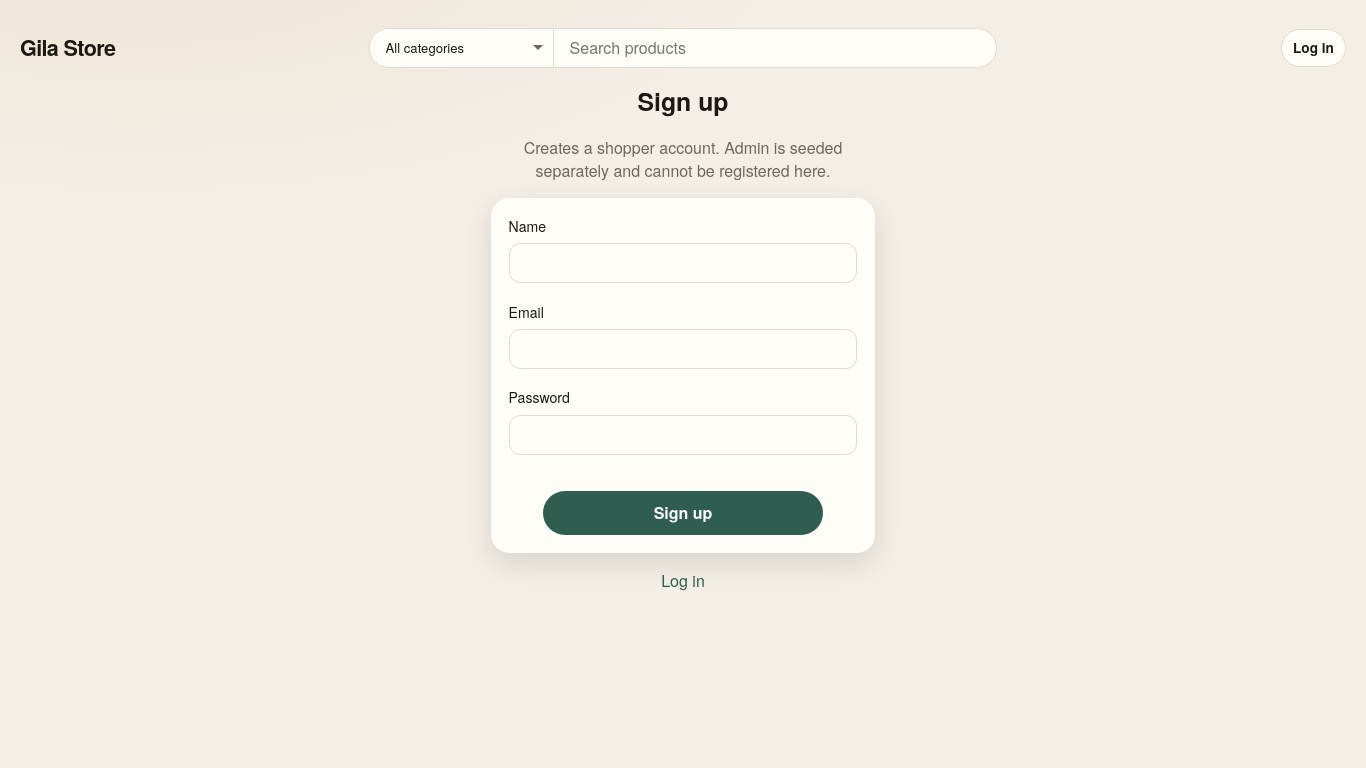
it: SignupPage › shows a conflict when the email is taken
The width and height of the screenshot is (1366, 768).
Expected: the button "Sign up" is enabled, x1=544 y1=491 x2=822 y2=535
Type "Ada" into the field labelled "Name".
click(683, 263); type("Ada")  # box x1=509 y1=243 x2=857 y2=283
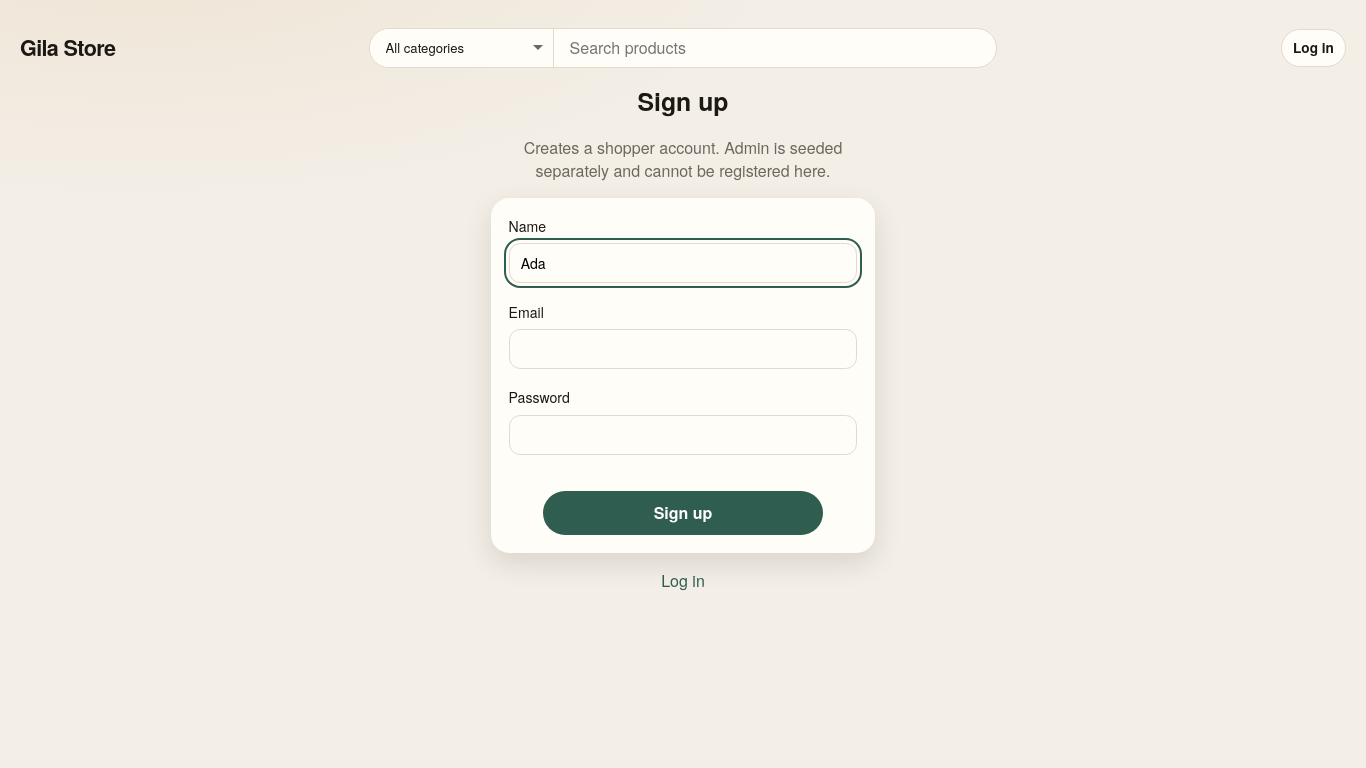
Type "ada@shop.local" into the field labelled "Email".
click(683, 349); type("ada@shop.local")  # box x1=509 y1=329 x2=857 y2=369
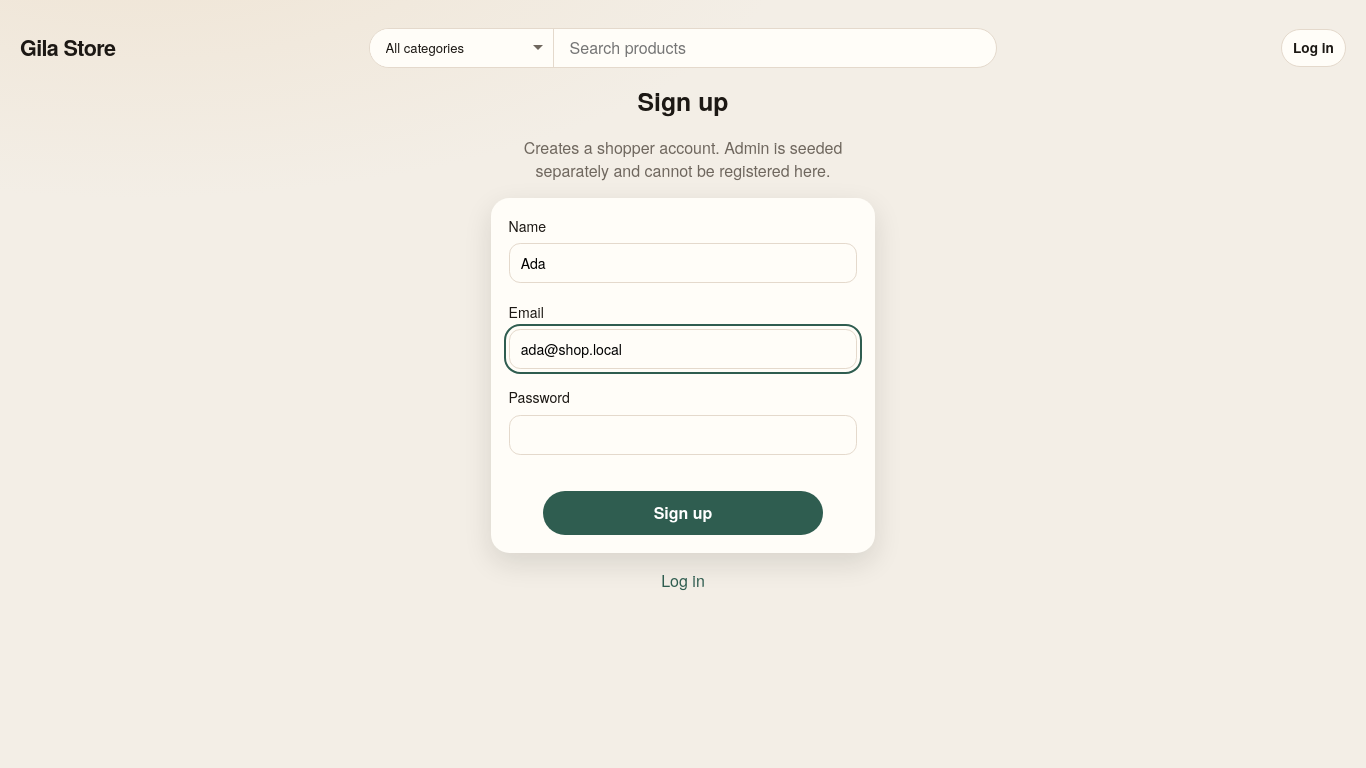
Type "password1" into the password field labelled "Password".
click(683, 435); type("password1")  # box x1=509 y1=415 x2=857 y2=455
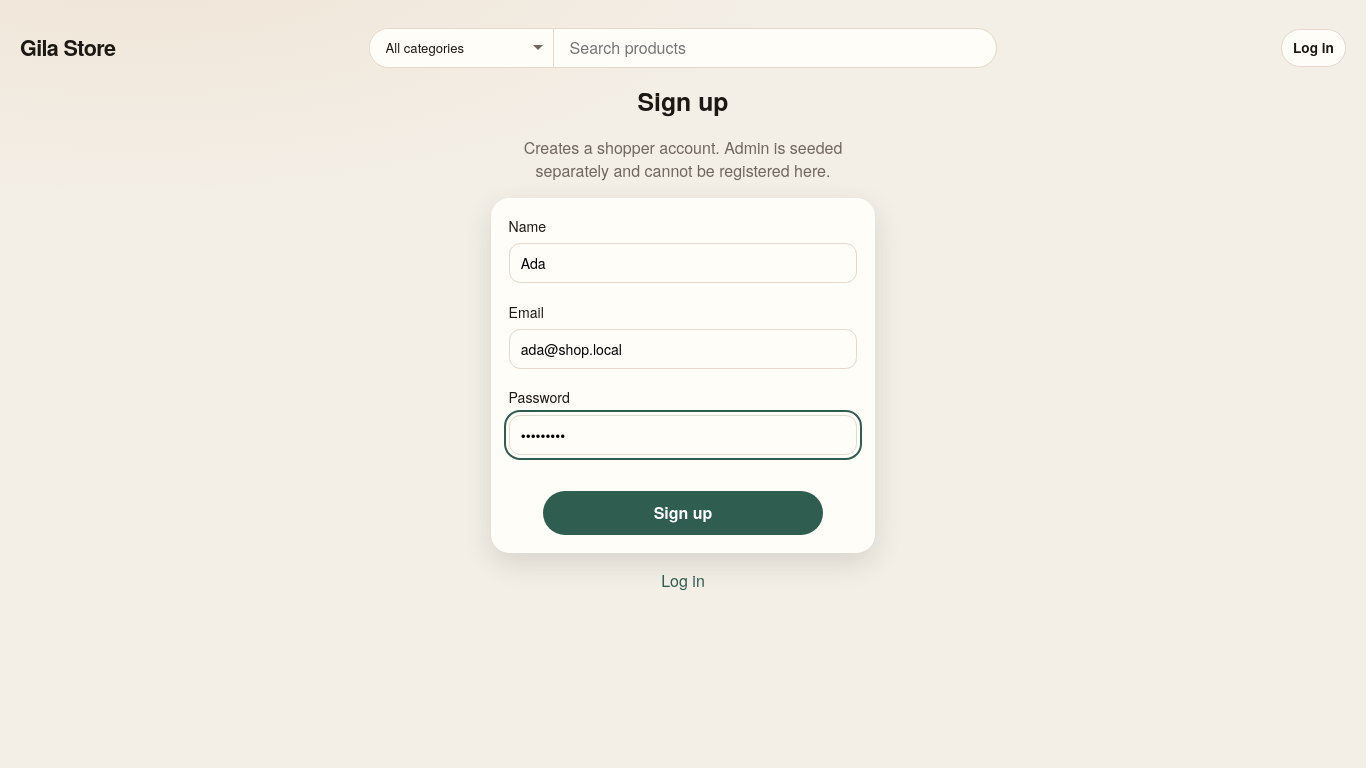
Click the button "Sign up".
click(683, 513)  # box x1=544 y1=491 x2=822 y2=535
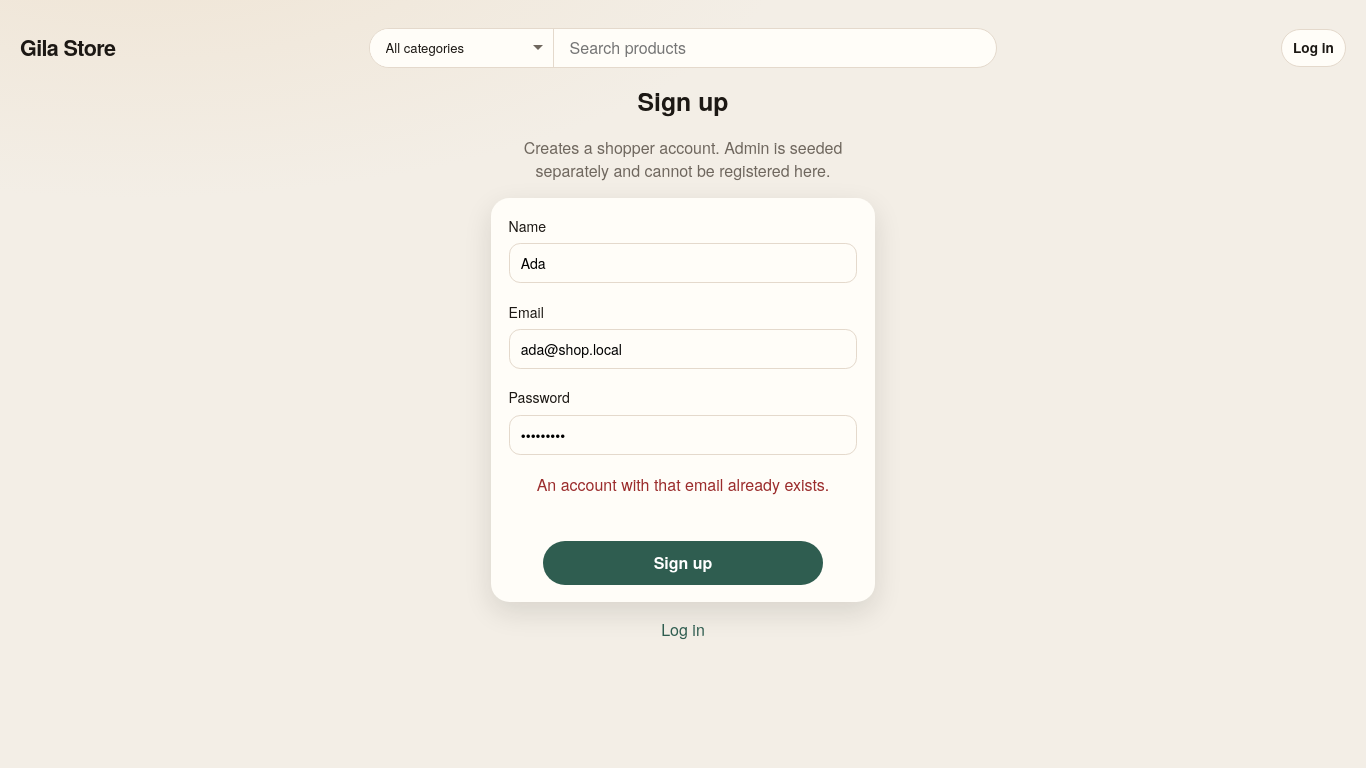
Expected: the text "An account with that email already exists." is shown, x1=537 y1=474 x2=829 y2=496
